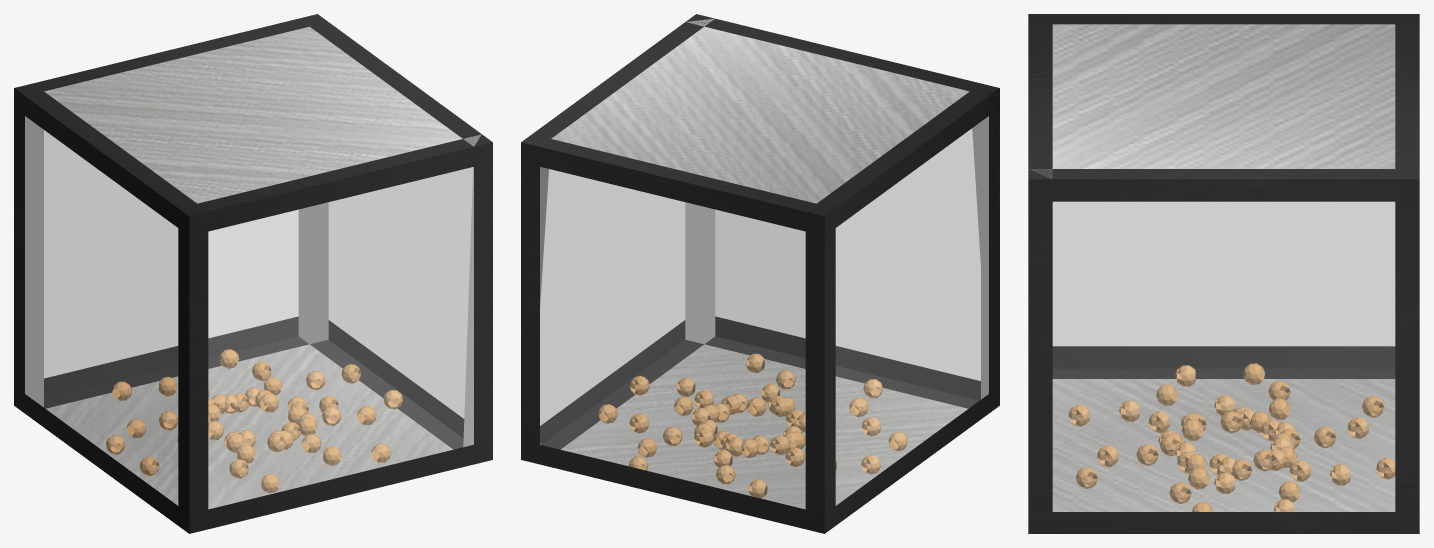
Rendered from PopcornMachine.obj.
3 views of the same model, side by side, from view 1: azimuth 30°, elevation 25°; view 2: azimuth 150°, elevation 25°; view 3: azimuth 270°, elevation 25° (orthographic). The views are drawn at different scales.
Visible parts, largest first — view 1: Cube.024, popCornGlass; view 2: Cube.024, popCornGlass; view 3: Cube.024, popCornGlass.
Part boxes in pixels (box(x1,y1,x2,y2)): Cube.024: box(14, 14, 492, 533); popCornGlass: box(25, 116, 473, 508); Cube.024: box(521, 14, 999, 533); popCornGlass: box(540, 116, 988, 508); Cube.024: box(1028, 14, 1419, 533); popCornGlass: box(1052, 201, 1395, 511).
Bounding box in the file's own units: 3 × 3 × 3.
